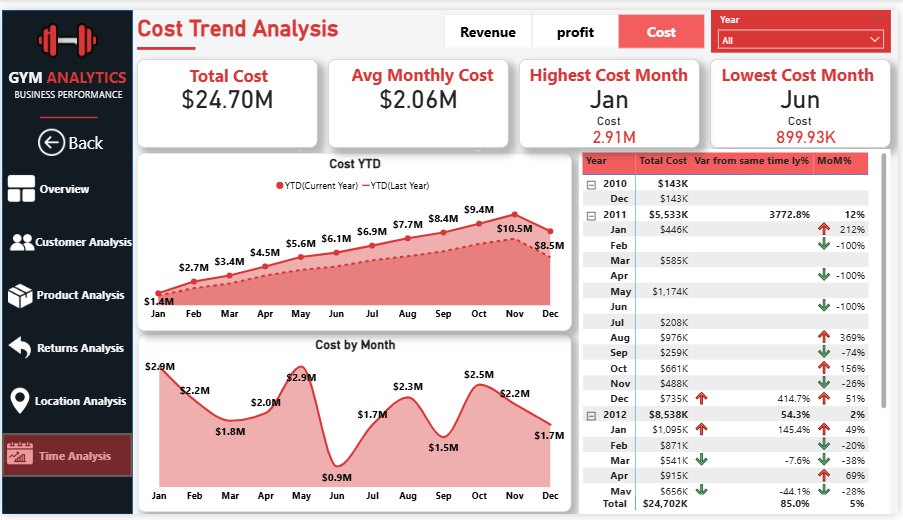

The page's visual inventory and layout, read from the dashboard file:
{"tool":"powerbi","page":{"name":"Time Analysis","canvas":[1280,720],"ordinal":6},"visuals":[{"type":"shape","box":[0,0,186.8,720.6],"z":1000},{"type":"textbox","box":[13.2,107.4,173.5,35.3],"z":5000},{"type":"actionButton","box":[38.2,311.2,155.9,39.7],"z":6000},{"type":"image","box":[50.7,168.7,38.8,40.3],"z":7000},{"type":"textbox","box":[89.3,167.2,59.5,42.5],"z":8000},{"type":"image","box":[7.4,233.8,41.2,41.2],"z":9000},{"type":"image","box":[8.8,313.2,41.2,38.2],"z":10000},{"type":"actionButton","box":[33.8,462.9,155.9,39.7],"z":11000},{"type":"image","box":[8.8,386.8,35.3,42.6],"z":12000},{"type":"actionButton","box":[33.8,387.1,155.9,39.7],"z":13000},{"type":"actionButton","box":[26.2,616.9,156.9,38.5],"z":14000},{"type":"actionButton","box":[33.8,538.8,155.9,39.7],"z":15000},{"type":"image","box":[4.4,466.2,42.6,32.4],"z":16000},{"type":"image","box":[7.4,538.2,36.8,39.7],"z":17000},{"type":"actionButton","box":[11.8,235.3,155.9,39.7],"z":18000},{"type":"image","box":[7.4,611.8,36.8,42.6],"z":19000},{"type":"actionButton","box":[2.9,225,183.8,61.8],"z":20000},{"type":"actionButton","box":[0,376.5,186.8,61.8],"z":21000},{"type":"actionButton","box":[1.5,451.5,186.8,61.8],"z":22000},{"type":"actionButton","box":[0,527.9,186.8,61.8],"z":23000},{"type":"actionButton","box":[0,300,186.8,61.8],"z":28000},{"type":"shape","title":"rev_profit_page","box":[756.7,6,123.9,49.3],"z":34000},{"type":"actionButton","title":"rev_profit_Button_page","box":[756.7,4.5,123.9,52.2],"z":52000},{"type":"shape","title":"prof&cs_rev_button","box":[631.3,6,125.4,49.3],"z":75000},{"type":"actionButton","title":"prof&cs_rev_coverButton","box":[629.9,7.5,126.9,49.3],"z":85000},{"type":"shape","title":"rev_cost_page","box":[880.6,6,123.9,49.3],"z":87000},{"type":"card","title":"Revenue","fields":{"Values":["Calculations.Total Cost"]},"box":[192.5,70.1,258.2,126.9],"z":88000},{"type":"textbox","box":[188.6,169.1,246.3,38.8],"z":89000},{"type":"textbox","title":"cs_title","box":[262.7,71.6,147.8,53.7],"z":90000},{"type":"card","title":"cs_Card","fields":{"Values":["Calculations.Arrow(cost)"]},"box":[408,154.2,53.7,53.7],"z":91000},{"type":"card","title":"cs_Card","fields":{"Values":["Calculations.Arrow(profit)"]},"box":[1232.3,172,36.8,50],"z":92000},{"type":"card","title":"Revenue","fields":{"Values":["Time Calculations.bottom_Month_cost_name"]},"box":[1010.9,70.6,258.2,126.9],"z":93000},{"type":"areaChart","title":"Cost by Month","fields":{"Category":["Date Table.Month Name"],"Y":["Calculations.Total Cost"]},"box":[194,462.7,619.4,253.7],"z":94000},{"type":"areaChart","title":"Cost YTD","fields":{"Category":["Date Table.Month Name"],"Y":["Time Calculations.YTD(Cost)","Time Calculations.YTD LY(Cost)"]},"box":[192.5,204.5,620.9,253.7],"z":95000},{"type":"pivotTable","title":"cs_Matrix","fields":{"Rows":["Date Table.Year","Date Table.Month Name"],"Values":["Calculations.Total Cost","Calculations.VarFromLy%(cost)","Time Calculations.cost mom%"]},"box":[823.9,198.5,444.8,520.9],"z":96000},{"type":"card","title":"Revenue","fields":{"Values":["Time Calculations.Avg Monthly cost"]},"box":[465.3,70.3,258.2,126.9],"z":97000},{"type":"card","title":"Revenue","fields":{"Values":["Time Calculations.Top_Month_cost_name"]},"box":[738.1,70.5,258.2,126.9],"z":98000},{"type":"textbox","title":"cs_avg","box":[494,70.1,244.8,43.3],"z":99000},{"type":"textbox","title":"cs_best_title","box":[749.3,70.1,250.7,43.3],"z":100000},{"type":"textbox","title":"Var From LY","box":[261.8,149.7,122.4,19.4],"z":101000},{"type":"textbox","title":"Var From LY","box":[536.4,152.7,123.9,19.4],"z":102000},{"type":"textbox","title":"Cost","box":[806,149.3,122.4,19.4],"z":103000},{"type":"card","title":"cs_best_num","fields":{"Values":["Time Calculations.Top_month_cost_number"]},"box":[794.6,163.1,159.7,35.8],"z":104000},{"type":"card","title":"cs_worst_num","fields":{"Values":["Time Calculations.bottom_month_cost_number"]},"box":[1069.2,163.1,159.7,35.8],"z":105000},{"type":"textbox","box":[470.7,169.1,217.9,38.8],"z":106000},{"type":"card","title":"cs_Avg_arrow","fields":{"Values":["Time Calculations.Arrow_Avg monthly profit"]},"box":[675.2,154.2,53.7,52.2],"z":107000},{"type":"textbox","title":"cs_Text box","box":[1022.4,70.1,246.3,43.3],"z":108000},{"type":"textbox","title":"Cost","box":[1079.1,149.3,122.4,19.4],"z":109000},{"type":"slicer","title":"cs_Slicer","fields":{"Values":["Date Table.Year"]},"box":[1012.4,-0.6,256.7,61.2],"z":110000},{"type":"shape","title":"cs_sidebar_under","box":[193.3,41.9,83.6,26.9],"z":111000},{"type":"actionButton","title":"cs_timeButton","box":[0,604.5,186.6,62.7],"z":112000},{"type":"textbox","title":"Cost Trend Analysis","box":[188.1,7.5,404.5,68.7],"z":113000},{"type":"image","title":"cs_dumple_Image","box":[-0.4,-0.4,186.6,86.6],"z":114000},{"type":"textbox","title":"cs_Text box","box":[4.5,76.1,194,52.2],"z":115000},{"type":"shape","title":"cs_sidebar","box":[53.7,137.3,82.1,32.8],"z":116000},{"type":"actionButton","box":[48.2,167.2,100.6,42.5],"z":118000}]}

Visuals, with their boxes in screenshot pixels (x1, y1, x2, y2), scaled from the page's 1280x720 canvas onto the 903x520 screenshot:
shape: select_region(0, 0, 132, 519)
textbox: select_region(9, 78, 132, 103)
actionButton: select_region(27, 225, 137, 253)
image: select_region(36, 122, 63, 151)
textbox: select_region(63, 121, 105, 151)
image: select_region(5, 169, 34, 199)
image: select_region(6, 226, 35, 254)
actionButton: select_region(24, 334, 134, 363)
image: select_region(6, 279, 31, 310)
actionButton: select_region(24, 280, 134, 308)
actionButton: select_region(18, 446, 129, 473)
actionButton: select_region(24, 389, 134, 418)
image: select_region(3, 337, 33, 360)
image: select_region(5, 389, 31, 417)
actionButton: select_region(8, 170, 118, 199)
image: select_region(5, 442, 31, 473)
actionButton: select_region(2, 162, 132, 207)
actionButton: select_region(0, 272, 132, 317)
actionButton: select_region(1, 326, 133, 371)
actionButton: select_region(0, 381, 132, 426)
actionButton: select_region(0, 217, 132, 261)
"rev_profit_page" shape: select_region(534, 4, 621, 40)
"rev_profit_Button_page" actionButton: select_region(534, 3, 621, 41)
"prof&cs_rev_button" shape: select_region(445, 4, 534, 40)
"prof&cs_rev_coverButton" actionButton: select_region(444, 5, 534, 41)
"rev_cost_page" shape: select_region(621, 4, 709, 40)
"Revenue" card: select_region(136, 51, 318, 142)
textbox: select_region(133, 122, 307, 150)
"cs_title" textbox: select_region(185, 52, 290, 90)
"cs_Card" card: select_region(288, 111, 326, 150)
"cs_Card" card: select_region(869, 124, 895, 160)
"Revenue" card: select_region(713, 51, 895, 143)
"Cost by Month" areaChart: select_region(137, 334, 574, 517)
"Cost YTD" areaChart: select_region(136, 148, 574, 331)
"cs_Matrix" pivotTable: select_region(581, 143, 895, 519)
"Revenue" card: select_region(328, 51, 510, 142)
"Revenue" card: select_region(521, 51, 703, 143)
"cs_avg" textbox: select_region(349, 51, 521, 82)
"cs_best_title" textbox: select_region(529, 51, 705, 82)
"Var From LY" textbox: select_region(185, 108, 271, 122)
"Var From LY" textbox: select_region(378, 110, 466, 124)
"Cost" textbox: select_region(569, 108, 655, 122)
"cs_best_num" card: select_region(561, 118, 673, 144)
"cs_worst_num" card: select_region(754, 118, 867, 144)
textbox: select_region(332, 122, 486, 150)
"cs_Avg_arrow" card: select_region(476, 111, 514, 149)
"cs_Text box" textbox: select_region(721, 51, 895, 82)
"Cost" textbox: select_region(761, 108, 848, 122)
"cs_Slicer" slicer: select_region(714, 0, 895, 44)
"cs_sidebar_under" shape: select_region(136, 30, 195, 50)
"cs_timeButton" actionButton: select_region(0, 437, 132, 482)
"Cost Trend Analysis" textbox: select_region(133, 5, 418, 55)
"cs_dumple_Image" image: select_region(0, 0, 131, 62)
"cs_Text box" textbox: select_region(3, 55, 140, 93)
"cs_sidebar" shape: select_region(38, 99, 96, 123)
actionButton: select_region(34, 121, 105, 151)
